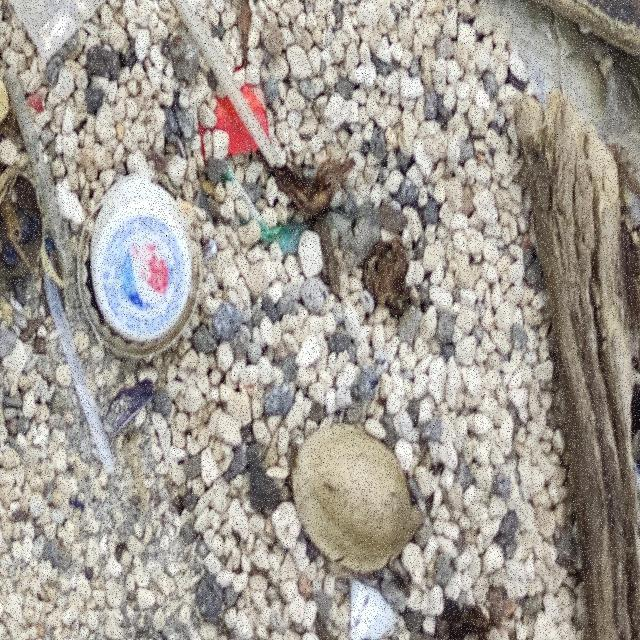plastic_waste: (173, 1, 280, 169), (92, 178, 196, 346)
